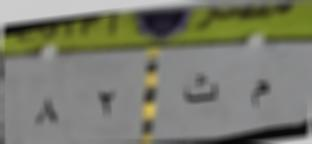2: (91, 83, 124, 125)
8: (27, 90, 65, 134)
meem: (245, 72, 274, 121)
thaa: (178, 69, 223, 115)
